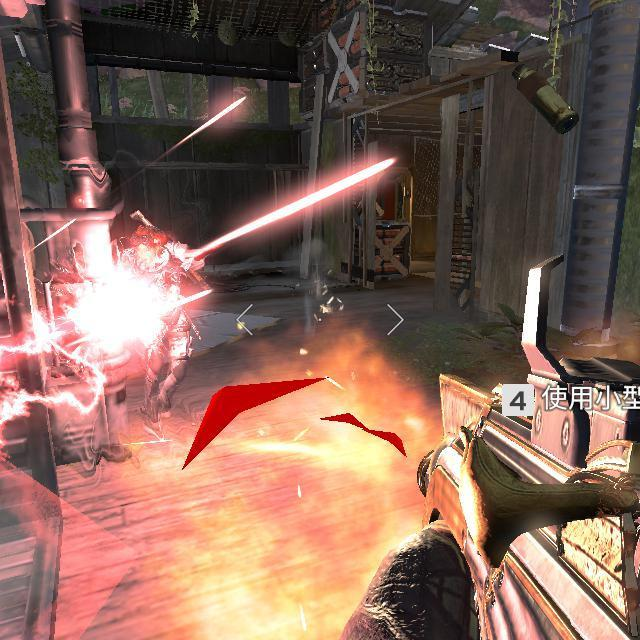avatar: (116, 220, 195, 424)
